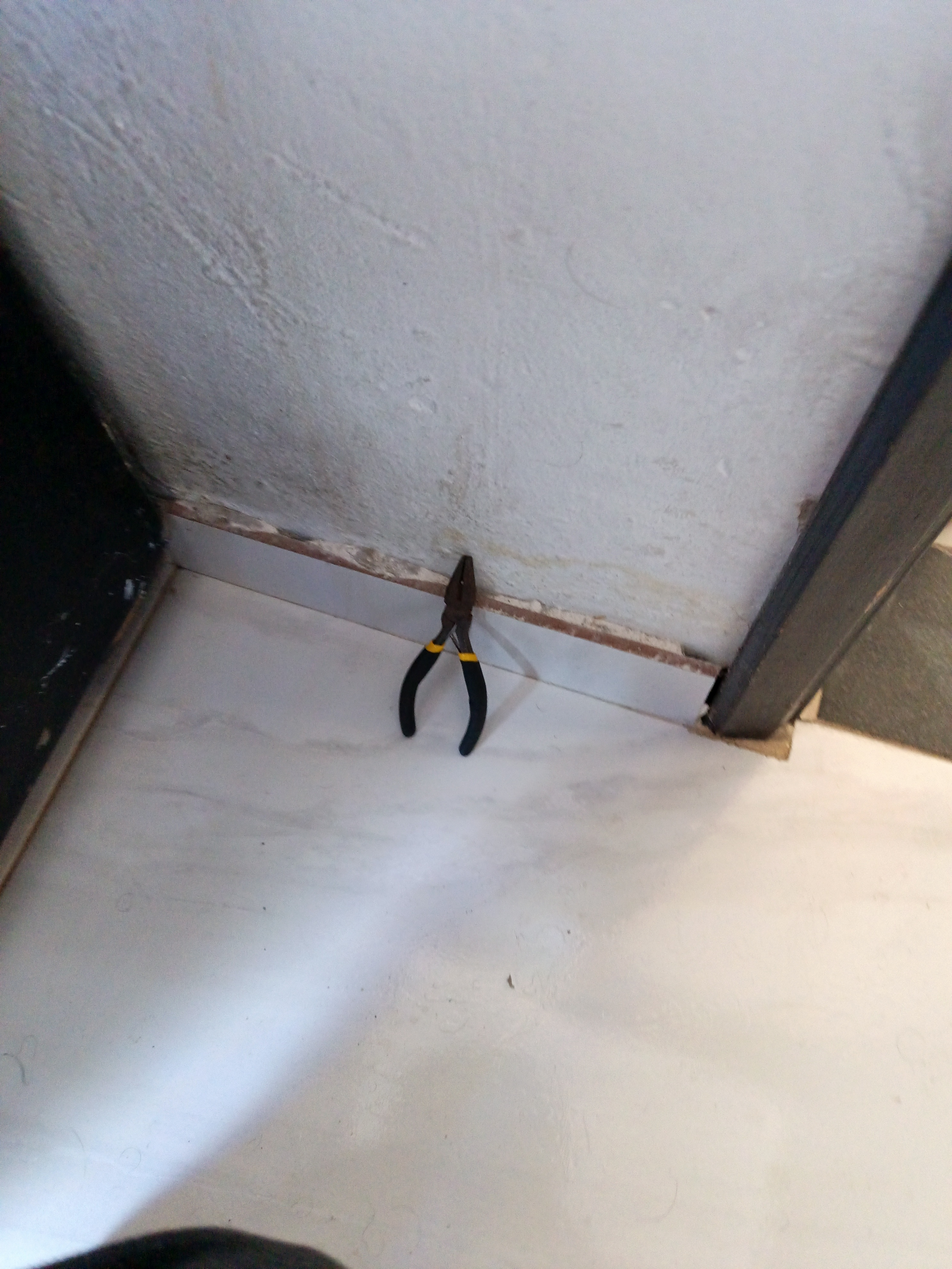Pinzas: (399, 555, 487, 756)
